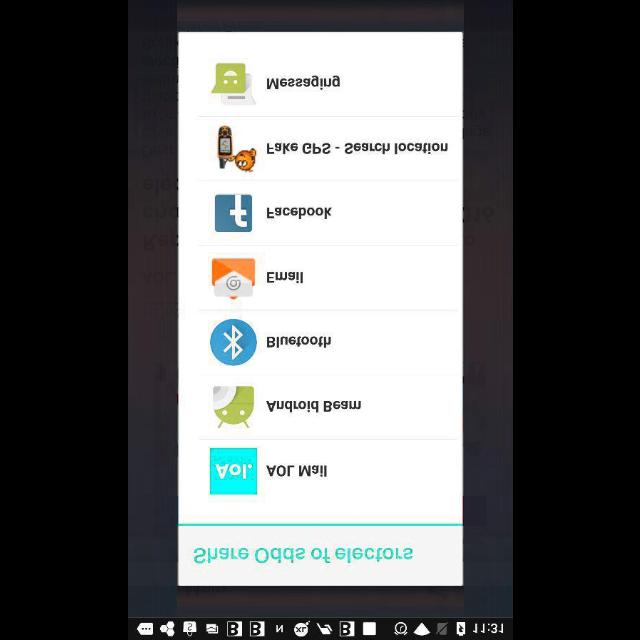icon: (210, 318, 256, 366), (214, 194, 252, 232)
image: (210, 448, 256, 494), (210, 63, 254, 105), (212, 386, 254, 428), (218, 126, 256, 172), (212, 259, 254, 299)
panel: (177, 32, 463, 586)
text: (190, 548, 412, 562), (266, 142, 448, 154), (266, 400, 360, 412), (266, 76, 340, 90), (267, 207, 331, 219), (267, 336, 331, 348), (266, 465, 326, 477), (266, 271, 302, 283)
uppertaskbar: (128, 617, 512, 639)
